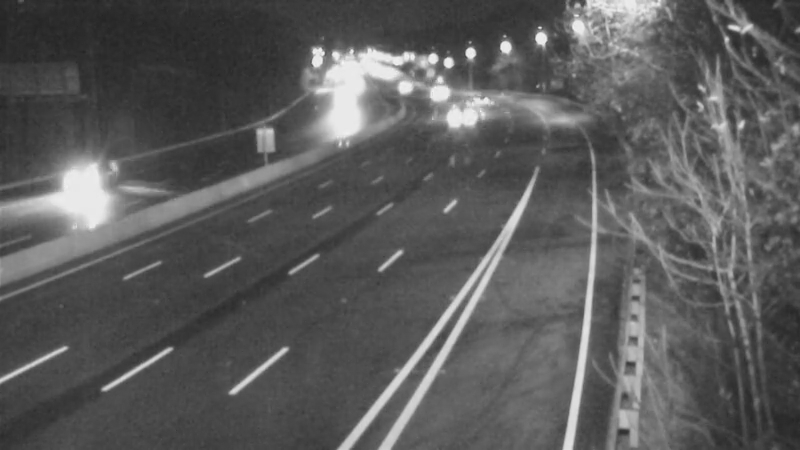vehicle: (43, 147, 123, 227), (456, 76, 506, 126), (430, 92, 480, 142)
